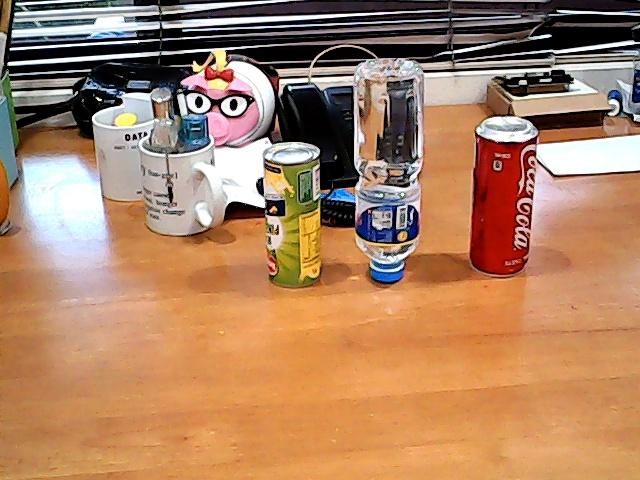Cola: (457, 104, 553, 292)
Pine Juice: (243, 132, 339, 298)
Summit Water: (336, 42, 440, 305)
